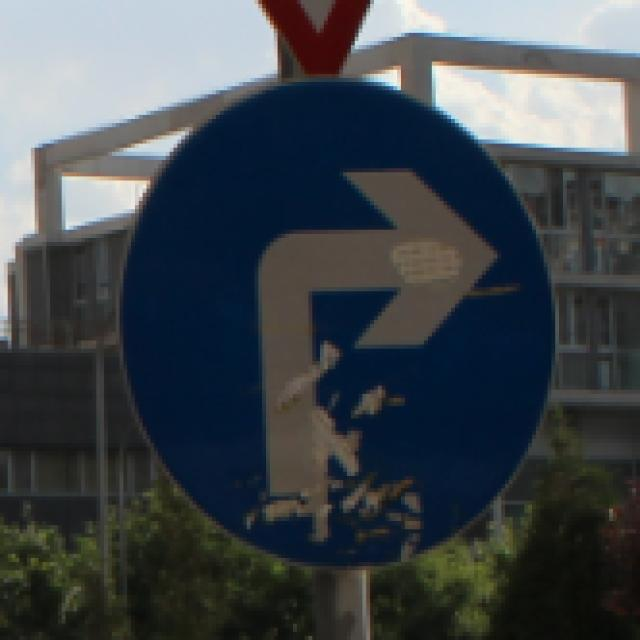right: (139, 93, 561, 558)
